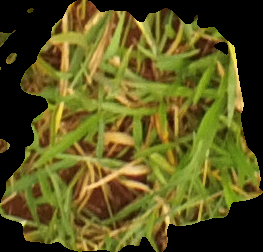grass: (1, 1, 261, 250)
